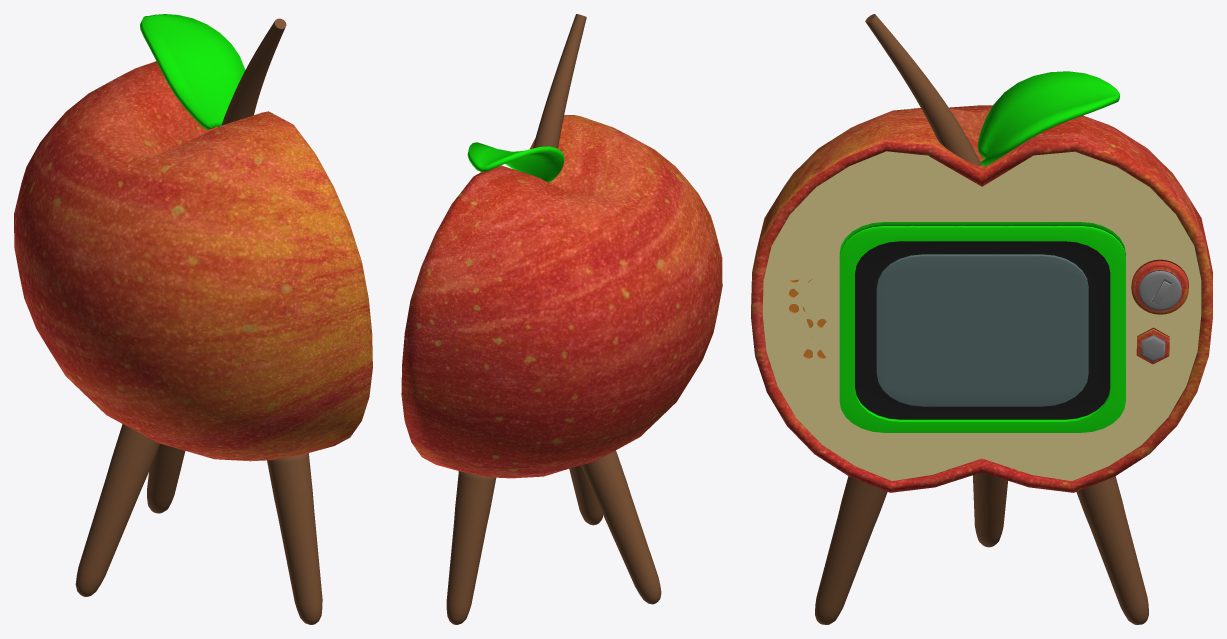
File: juicy apple tv3.fbx
3 renders of one model, left to right at view 1: azimuth 30°, elevation 25°; view 2: azimuth 150°, elevation 25°; view 3: azimuth 270°, elevation 25°, orthographic. The views are drawn at different scales.
Parts seen in each view (by area): view 1: Cube, Cylinder.001, Plane, Cylinder.002, BézierCurve; view 2: Cube, Cylinder.001, Cylinder.002, BézierCurve, Plane; view 3: Cube, Cube.001, Cylinder.001, Plane, BézierCurve, Cylinder, Cylinder.002.
Boxes of the visible parts, box(x1,y1,x2,y2) form: Cube: box(14, 61, 372, 461); Cylinder.001: box(147, 443, 322, 624); Plane: box(140, 14, 245, 129); Cylinder.002: box(75, 424, 160, 596); BézierCurve: box(221, 18, 286, 125); Cube: box(401, 115, 722, 478); Cylinder.001: box(446, 465, 602, 624); Cylinder.002: box(581, 450, 661, 604); BézierCurve: box(532, 14, 586, 148); Plane: box(467, 142, 564, 182); Cube: box(751, 105, 1212, 492); Cube.001: box(839, 222, 1125, 432); Cylinder.001: box(815, 476, 1148, 624); Plane: box(977, 71, 1119, 166); BézierCurve: box(865, 14, 981, 165); Cylinder: box(1131, 259, 1188, 364); Cylinder.002: box(973, 472, 1007, 547).
Bounding box in the file's own units: 143 × 357 × 247.
7 materials, 1 textured.
